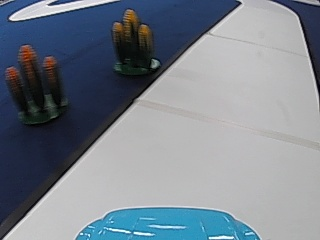corn: (6, 41, 66, 131), (111, 5, 158, 77)
